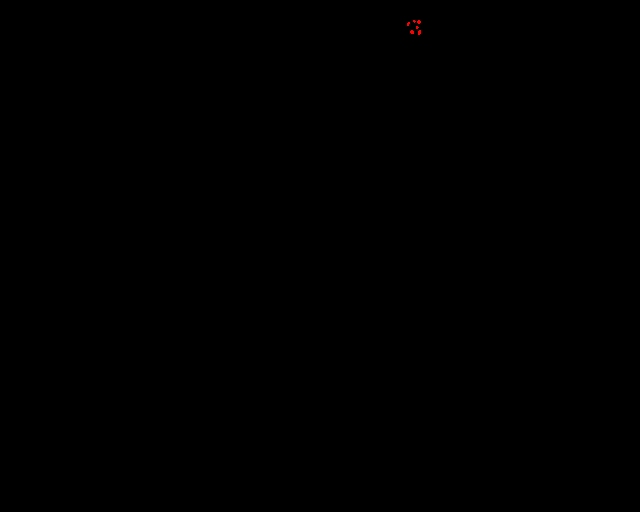Target: (417, 20, 421, 24), (410, 30, 414, 34), (418, 30, 421, 35), (407, 22, 410, 26), (413, 20, 416, 23), (416, 26, 419, 29)
